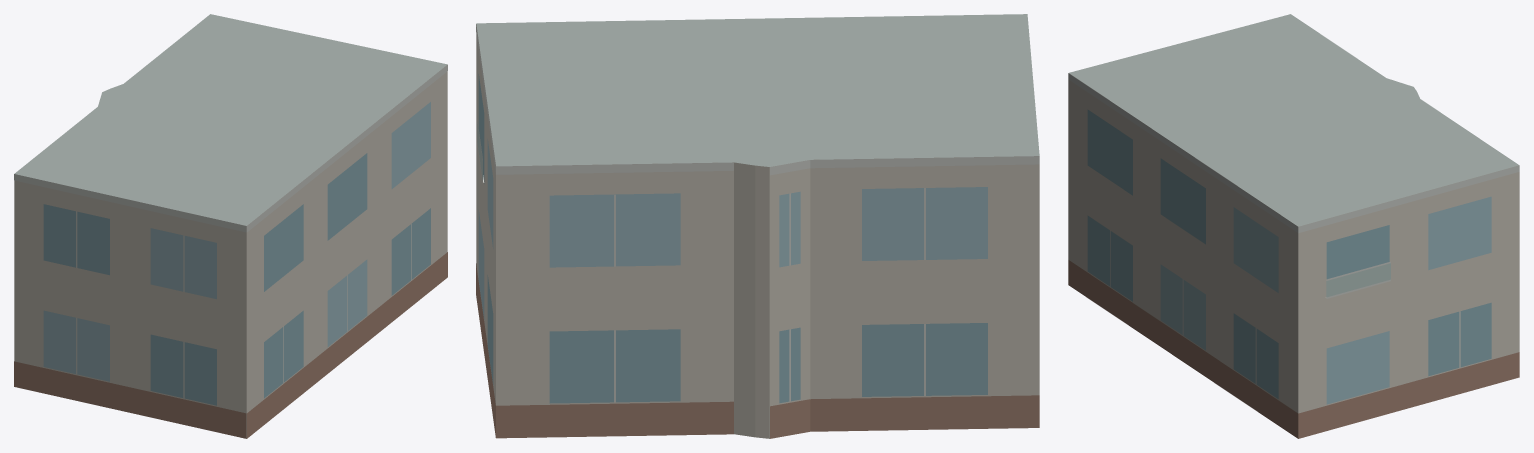
File: survey-upis-32621819.glb
The picture shows the model from 3 angles, left to right: view 1: azimuth 30°, elevation 25°; view 2: azimuth 150°, elevation 25°; view 3: azimuth 270°, elevation 25°; orthographic projection. The views are drawn at different scales.
Parts seen in each view (by area): view 1: survey-upis-32621819.tmp; view 2: survey-upis-32621819.tmp; view 3: survey-upis-32621819.tmp.
Boxes of the visible parts, x1=… form: survey-upis-32621819.tmp: x1=14, y1=14, x2=447, y2=438; survey-upis-32621819.tmp: x1=476, y1=14, x2=1039, y2=438; survey-upis-32621819.tmp: x1=1068, y1=14, x2=1519, y2=438.
Bounding box in the file's own units: 17 × 7.9 × 15.23.
